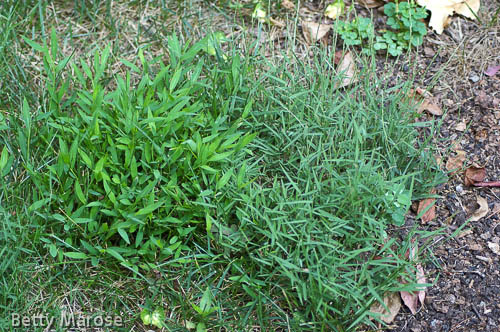crabgrass: (54, 81, 222, 260)
